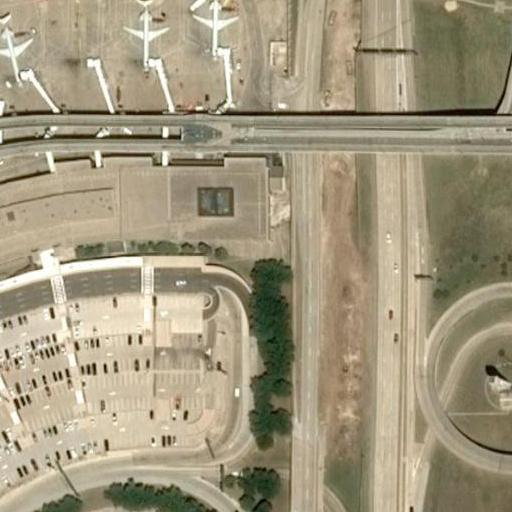Aircraft: (122, 0, 169, 65), (0, 9, 34, 76), (190, 0, 234, 47)
